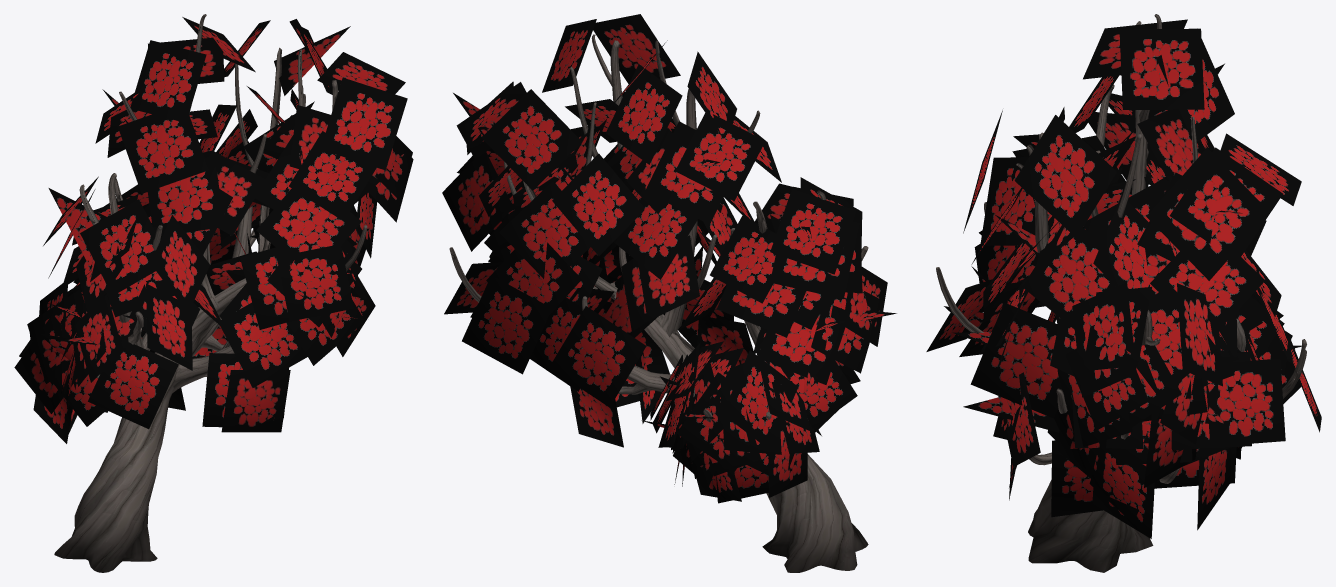
The model's file is twistedtree_1_lod2.glb.
3 renders of one model, left to right at view 1: azimuth 30°, elevation 25°; view 2: azimuth 150°, elevation 25°; view 3: azimuth 270°, elevation 25°, orthographic. The views are drawn at different scales.
Visible parts, largest first — view 1: TwistedTree_1; view 2: TwistedTree_1; view 3: TwistedTree_1.
Boxes of the visible parts, <box> form: TwistedTree_1: <box>14,14,413,572</box>; TwistedTree_1: <box>442,14,896,572</box>; TwistedTree_1: <box>926,14,1321,572</box>.
Bounding box in the file's own units: 13.05 × 15.48 × 9.12.
2 materials, 2 textured.
